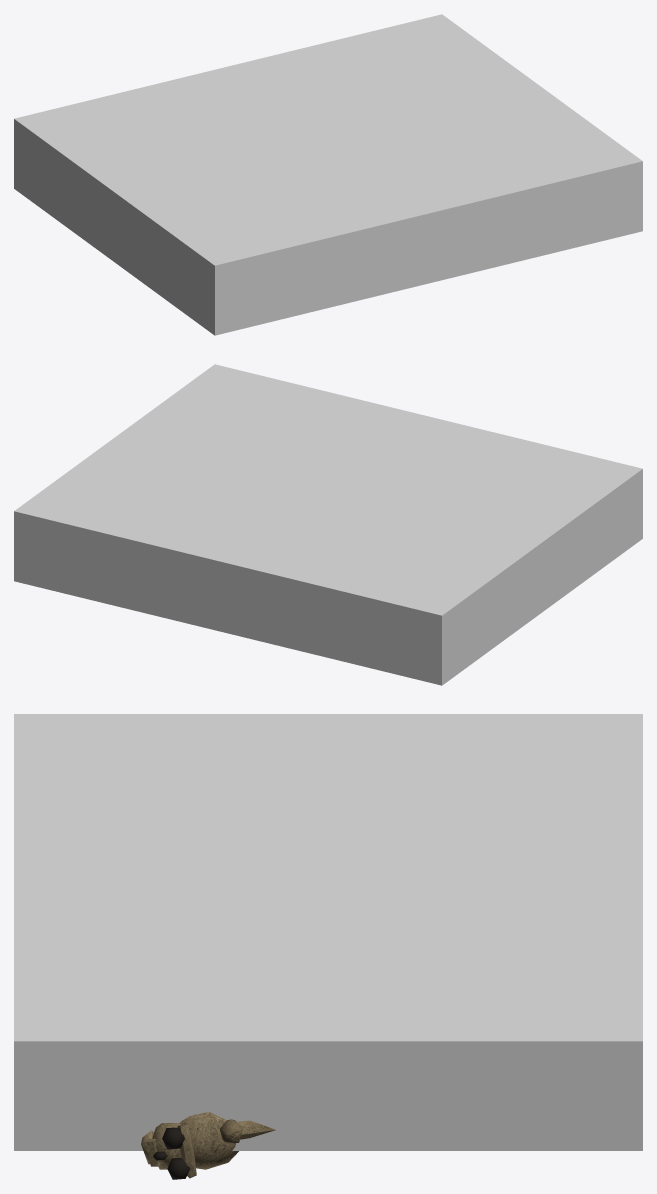
The model's file is bone_pile_opened.glb.
3 renders of one model, top to bottom at view 1: azimuth 30°, elevation 25°; view 2: azimuth 150°, elevation 25°; view 3: azimuth 270°, elevation 25°, orthographic. The views are drawn at different scales.
Visible parts, largest first — view 1: col_click; view 2: col_click; view 3: col_click, bone_pile_opened.
Part boxes in pixels (x1,y1,x2,y2): col_click: (14,14,642,335); col_click: (14,364,642,685); col_click: (14,714,642,1150); bone_pile_opened: (141,1112,275,1179).
Bounding box in the file's own units: 1.68 × 0.3044 × 1.3.
Materials: 3 (2 with a texture image).
